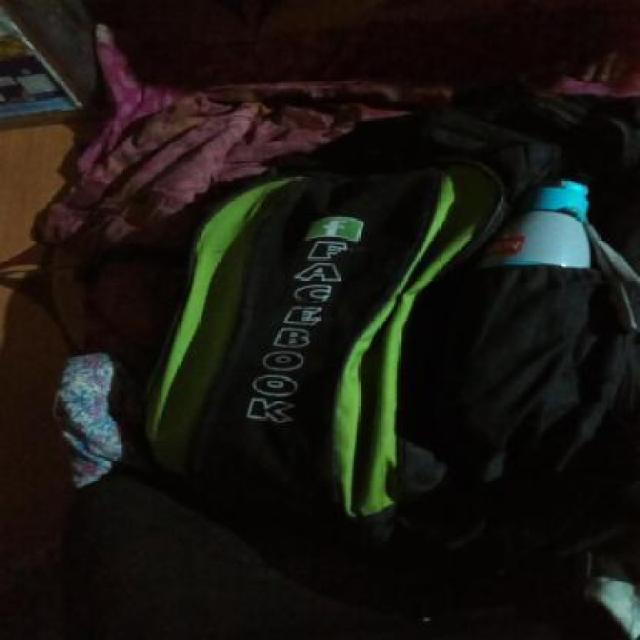backpack: (127, 76, 640, 598)
